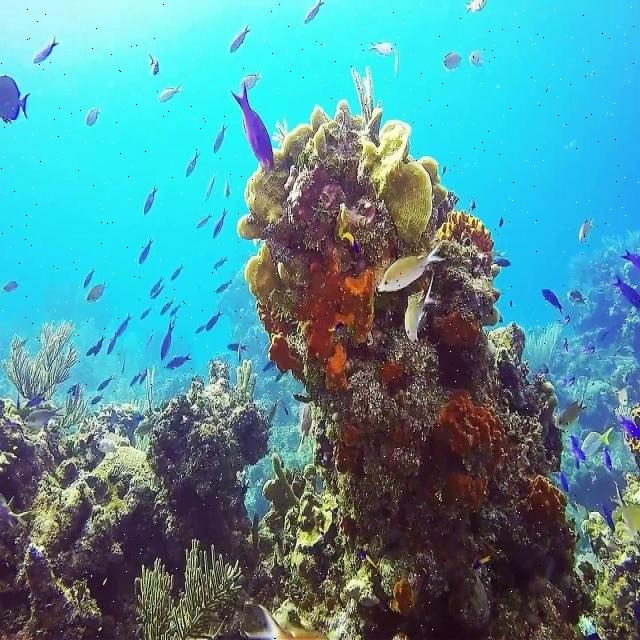fish: (562, 427, 628, 526), (232, 84, 274, 169), (376, 244, 443, 293), (0, 73, 31, 124), (367, 40, 401, 78), (108, 312, 132, 357), (556, 400, 587, 433), (31, 35, 62, 66), (612, 275, 639, 309), (161, 318, 178, 360), (230, 23, 253, 53), (195, 311, 224, 334), (542, 288, 564, 315), (184, 149, 202, 180), (85, 280, 109, 303), (239, 73, 264, 94), (138, 235, 154, 266), (304, 1, 323, 26), (144, 186, 159, 217), (86, 333, 103, 359), (214, 125, 228, 156), (85, 104, 102, 129), (158, 85, 183, 102), (620, 247, 639, 269), (214, 206, 227, 238), (168, 353, 192, 370), (577, 216, 592, 243), (568, 289, 589, 306), (150, 279, 165, 299), (149, 52, 160, 75), (494, 252, 512, 266), (172, 261, 183, 281)
reefs: (0, 73, 639, 639)
